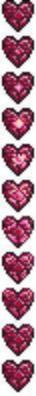lifeC: (1, 286, 36, 320), (1, 358, 36, 392), (1, 106, 35, 140), (1, 178, 35, 212), (2, 251, 35, 285), (1, 323, 35, 356), (1, 0, 35, 32), (2, 34, 34, 68), (1, 72, 35, 104), (1, 144, 35, 176), (1, 216, 35, 248)
